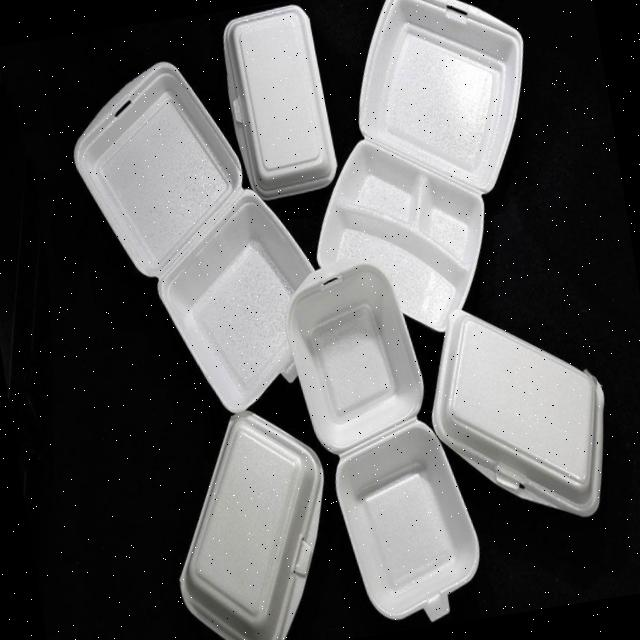styrofoam: (54, 0, 634, 640), (59, 40, 336, 432), (275, 0, 567, 349), (414, 287, 622, 539), (153, 398, 349, 640)
